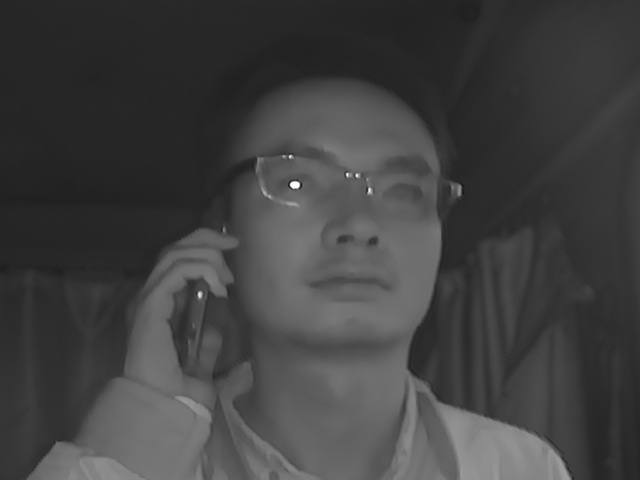hand: (124, 226, 240, 398)
